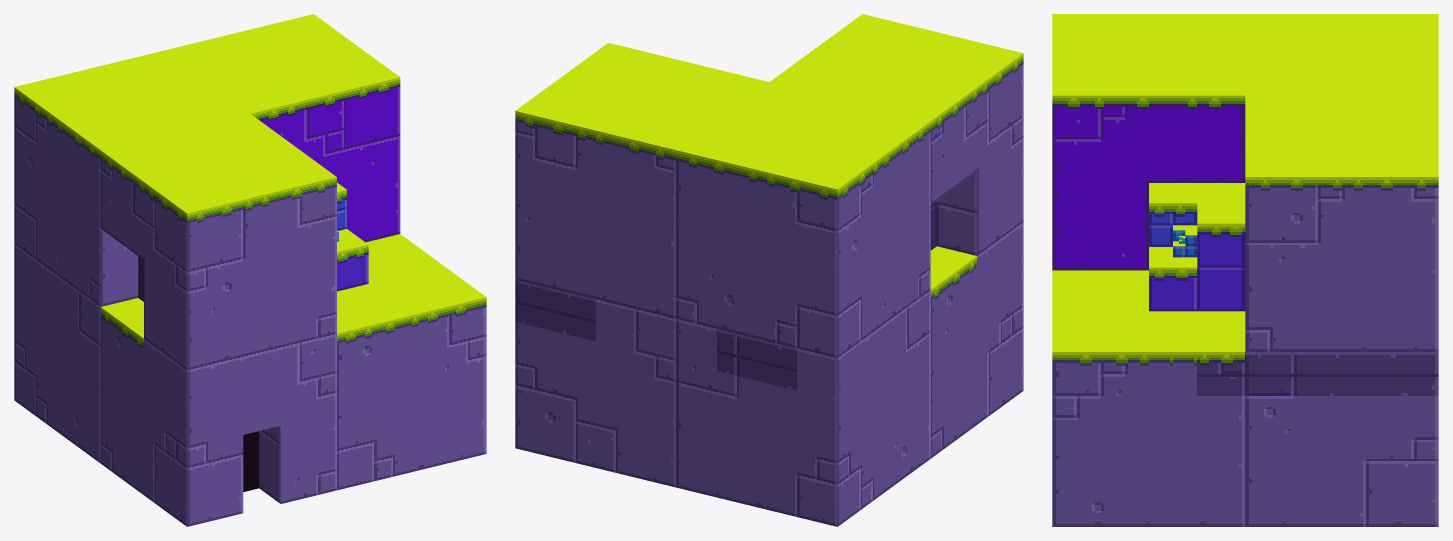
File: fractal_cubeao.fezao.glb
3 views of the same model, side by side, from view 1: azimuth 30°, elevation 25°; view 2: azimuth 150°, elevation 25°; view 3: azimuth 270°, elevation 25° (orthographic). The views are drawn at different scales.
Parts seen in each view (by area): view 1: FRACTAL_CUBEAO; view 2: FRACTAL_CUBEAO; view 3: FRACTAL_CUBEAO.
Boxes of the visible parts, x1,y1,x2,y2 form: FRACTAL_CUBEAO: (14,14,486,526); FRACTAL_CUBEAO: (515,14,1023,526); FRACTAL_CUBEAO: (1052,14,1438,526).
Bounding box in the file's own units: 8 × 8 × 8.
1 material, 1 textured.
